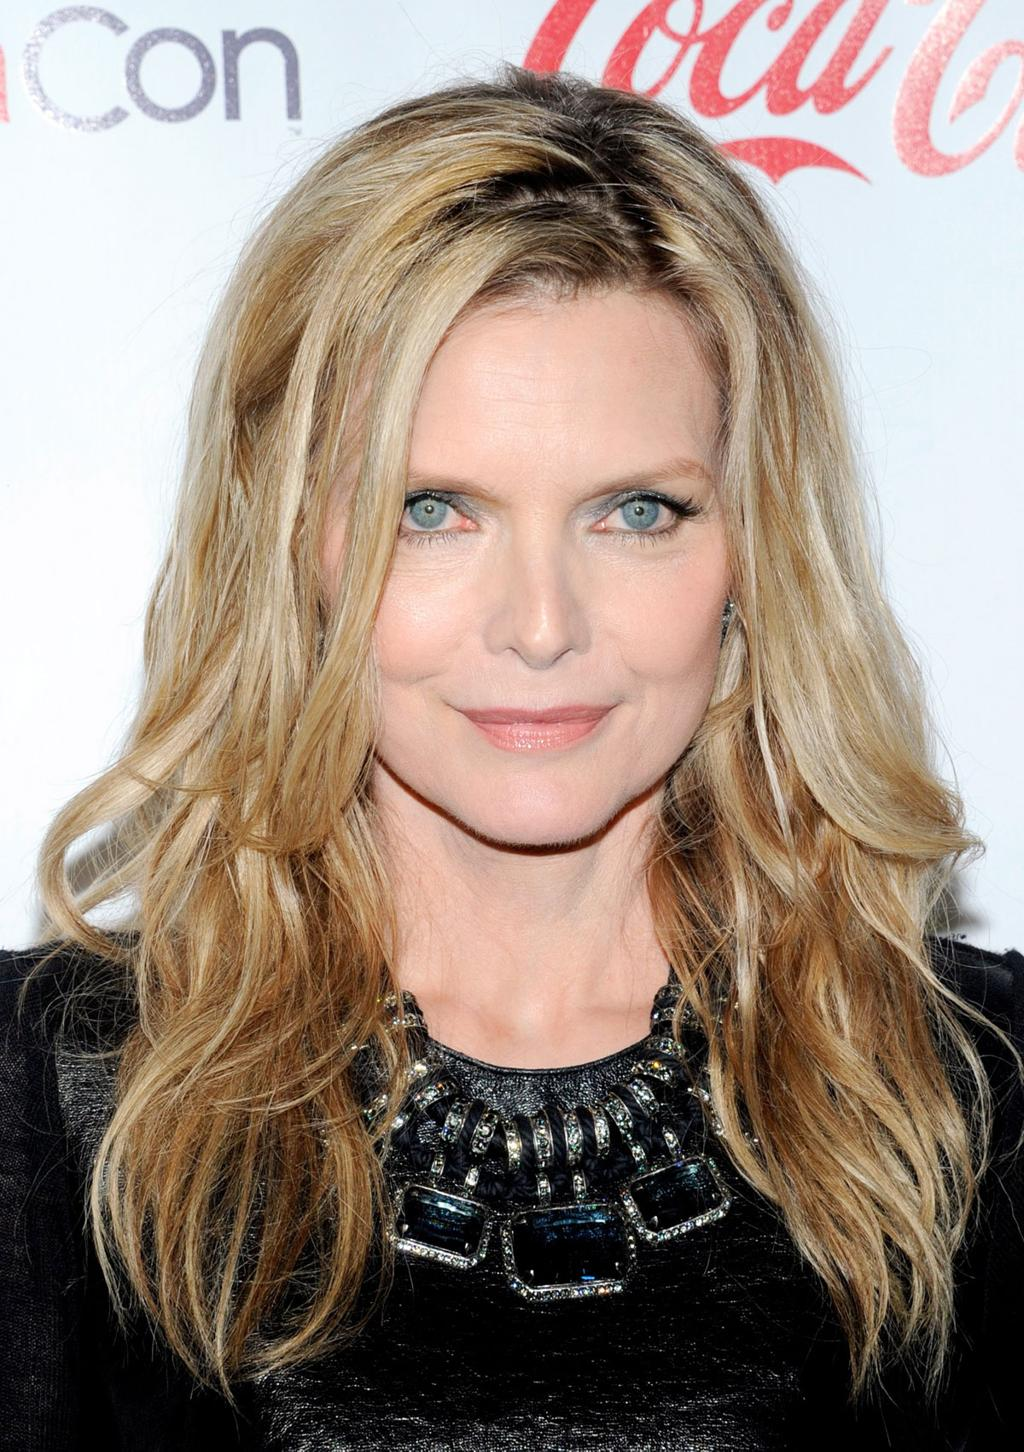face: (301, 281, 729, 848)
